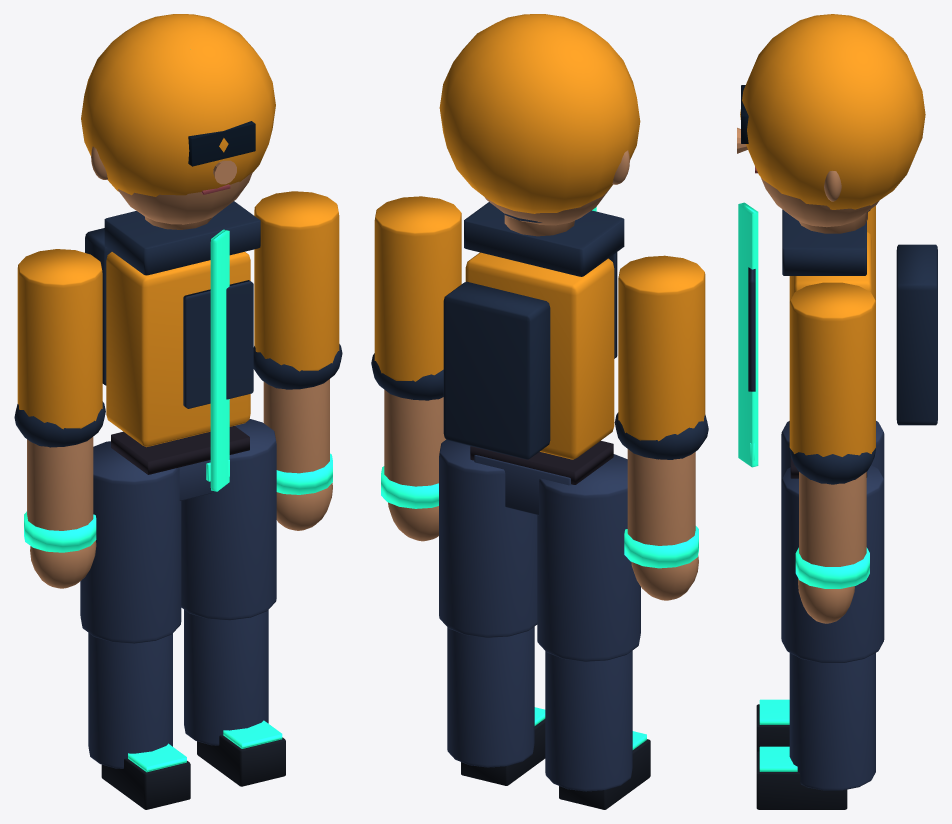
File: char_ayaan.glb
3 views of the same model, side by side, from view 1: azimuth 30°, elevation 25°; view 2: azimuth 150°, elevation 25°; view 3: azimuth 270°, elevation 25° (orthographic). The views are drawn at different scales.
Visible parts, largest first — view 1: Ayaan_Helmet, Ayaan_Thigh_L, Ayaan_Torso, Ayaan_Thigh_R, Ayaan_Sleeve_L, Ayaan_Sleeve_R, Ayaan_Shin_R, Ayaan_Shin_L, Ayaan_Jacket_Collar, Ayaan_Chest_Panel, Ayaan_Forearm_L, Ayaan_Forearm_R (+16 smaller); view 2: Ayaan_Helmet, Ayaan_Thigh_L, Ayaan_Backpack, Ayaan_Thigh_R, Ayaan_Sleeve_L, Ayaan_Torso, Ayaan_Sleeve_R, Ayaan_Shin_L, Ayaan_Shin_R, Ayaan_Jacket_Collar, Ayaan_Forearm_L, Ayaan_Forearm_R (+12 smaller); view 3: Ayaan_Helmet, Ayaan_Sleeve_R, Ayaan_Shin_R, Ayaan_Thigh_R, Ayaan_Backpack, Ayaan_Forearm_R, Ayaan_Cross_Strap, Ayaan_Jacket_Collar, Ayaan_Shoe_R, Ayaan_Elbow_Pad_R, Ayaan_Face, Ayaan_Wrist_R (+10 smaller).
Boxes of the visible parts, left/top/right/bottom form: Ayaan_Helmet: left=81, top=14, right=275, bottom=196; Ayaan_Thigh_L: left=80, top=441, right=181, bottom=643; Ayaan_Torso: left=106, top=251, right=250, bottom=447; Ayaan_Thigh_R: left=181, top=419, right=276, bottom=620; Ayaan_Sleeve_L: left=17, top=249, right=102, bottom=429; Ayaan_Sleeve_R: left=254, top=191, right=339, bottom=371; Ayaan_Shin_R: left=184, top=609, right=268, bottom=745; Ayaan_Shin_L: left=88, top=633, right=172, bottom=768; Ayaan_Jacket_Collar: left=104, top=201, right=260, bottom=275; Ayaan_Chest_Panel: left=183, top=280, right=253, bottom=408; Ayaan_Forearm_L: left=27, top=437, right=93, bottom=530; Ayaan_Forearm_R: left=263, top=379, right=329, bottom=473; Ayaan_Helmet: left=439, top=14, right=640, bottom=213; Ayaan_Thigh_L: left=537, top=454, right=640, bottom=661; Ayaan_Backpack: left=443, top=281, right=550, bottom=459; Ayaan_Thigh_R: left=439, top=439, right=537, bottom=637; Ayaan_Sleeve_L: left=618, top=255, right=705, bottom=441; Ayaan_Torso: left=465, top=252, right=614, bottom=459; Ayaan_Sleeve_R: left=374, top=196, right=461, bottom=381; Ayaan_Shin_L: left=545, top=650, right=632, bottom=791; Ayaan_Shin_R: left=447, top=626, right=534, bottom=767; Ayaan_Jacket_Collar: left=464, top=202, right=624, bottom=276; Ayaan_Forearm_L: left=627, top=449, right=695, bottom=545; Ayaan_Forearm_R: left=384, top=390, right=445, bottom=486; Ayaan_Helmet: left=740, top=14, right=925, bottom=209; Ayaan_Sleeve_R: left=789, top=282, right=875, bottom=456; Ayaan_Shin_R: left=789, top=653, right=875, bottom=790; Ayaan_Thigh_R: left=781, top=465, right=884, bottom=662; Ayaan_Backpack: left=896, top=244, right=937, bottom=425; Ayaan_Forearm_R: left=799, top=472, right=866, bottom=566; Ayaan_Cross_Strap: left=738, top=202, right=758, bottom=467; Ayaan_Jacket_Collar: left=782, top=209, right=866, bottom=275; Ayaan_Shoe_R: left=756, top=751, right=847, bottom=809; Ayaan_Elbow_Pad_R: left=789, top=448, right=875, bottom=484; Ayaan_Face: left=760, top=177, right=879, bottom=227; Ayaan_Wrist_R: left=795, top=547, right=869, bottom=588.
Bounding box in the file's own units: 0.9 × 2.02 × 0.4875.
